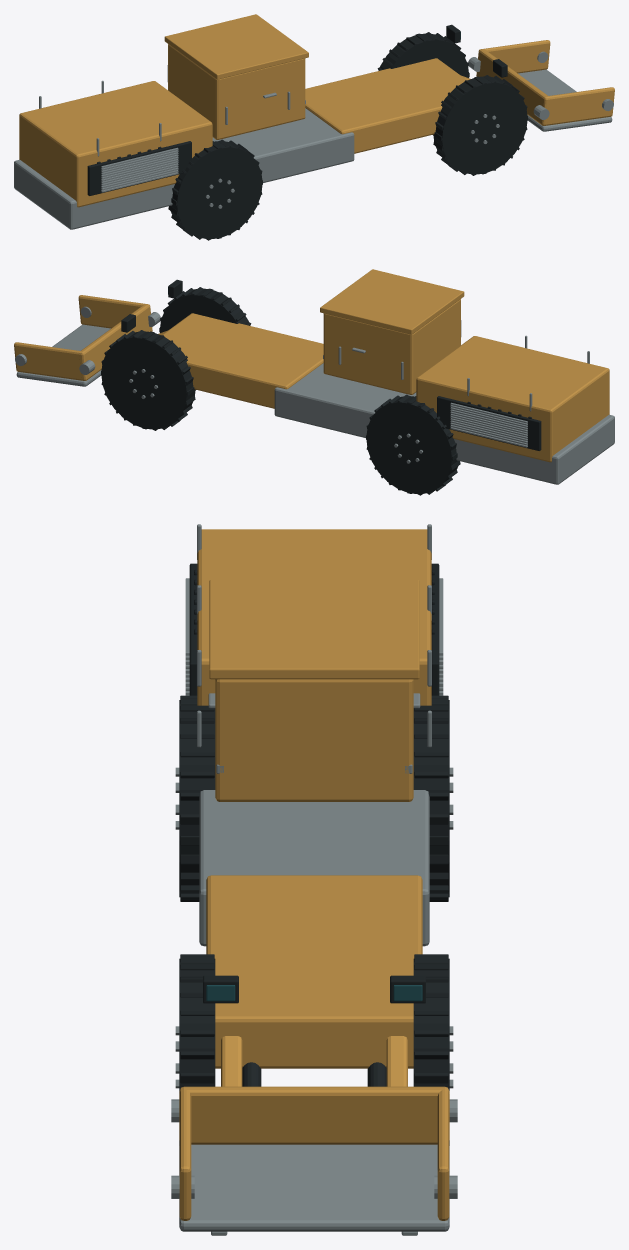
The model's file is reference-loader.glb.
3 renders of one model, top to bottom at view 1: azimuth 30°, elevation 25°; view 2: azimuth 150°, elevation 25°; view 3: azimuth 270°, elevation 25°, orthographic. The views are drawn at different scales.
Parts seen in each view (by area): view 1: cab, door_handle, front_chassis, chevron_tread.084, chevron_tread.028, bucket_back, chevron_tread.056, bucket_floor, engine_louvre, worklamp_housing; view 2: cab, door_handle, front_chassis, chevron_tread.056, chevron_tread, bucket_back, chevron_tread.084, bucket_floor, engine_louvre, worklamp_housing; view 3: cab, front_chassis, bucket_floor, door_handle, bucket_back, chevron_tread, chevron_tread.028, chevron_tread.056, chevron_tread.084, engine_louvre, boom_arm, worklamp_housing (+1 smaller).
Boxes of the visible parts, bbox=[...] form: cab: bbox=[19, 14, 308, 207]; door_handle: bbox=[14, 65, 354, 229]; front_chassis: bbox=[305, 58, 466, 153]; chevron_tread.084: bbox=[433, 75, 527, 175]; chevron_tread.028: bbox=[168, 139, 262, 240]; bucket_back: bbox=[476, 40, 614, 125]; chevron_tread.056: bbox=[377, 32, 469, 77]; bucket_floor: bbox=[468, 51, 613, 131]; engine_louvre: bbox=[87, 141, 191, 195]; worklamp_housing: bbox=[446, 24, 507, 77]; cab: bbox=[320, 269, 609, 462]; door_handle: bbox=[274, 320, 614, 484]; front_chassis: bbox=[162, 313, 323, 408]; chevron_tread.056: bbox=[101, 330, 195, 430]; chevron_tread: bbox=[366, 394, 460, 495]; bucket_back: bbox=[14, 295, 152, 380]; chevron_tread.084: bbox=[159, 287, 251, 332]; bucket_floor: bbox=[15, 306, 160, 386]; engine_louvre: bbox=[437, 396, 541, 450]; worklamp_housing: bbox=[121, 279, 182, 332]; cab: bbox=[197, 529, 431, 801]; front_chassis: bbox=[206, 875, 422, 1068]; bucket_floor: bbox=[171, 1099, 457, 1235]; door_handle: bbox=[185, 524, 443, 946]; bucket_back: bbox=[179, 1086, 449, 1220]; chevron_tread: bbox=[413, 695, 449, 901]; chevron_tread.028: bbox=[179, 695, 215, 901]; chevron_tread.056: bbox=[413, 954, 449, 1145]; chevron_tread.084: bbox=[179, 954, 215, 1145]; engine_louvre: bbox=[189, 563, 439, 695]; boom_arm: bbox=[221, 1036, 407, 1086]; worklamp_housing: bbox=[203, 975, 425, 1003].
Bounding box in the file's own units: 6.93 × 1.93 × 1.59.
